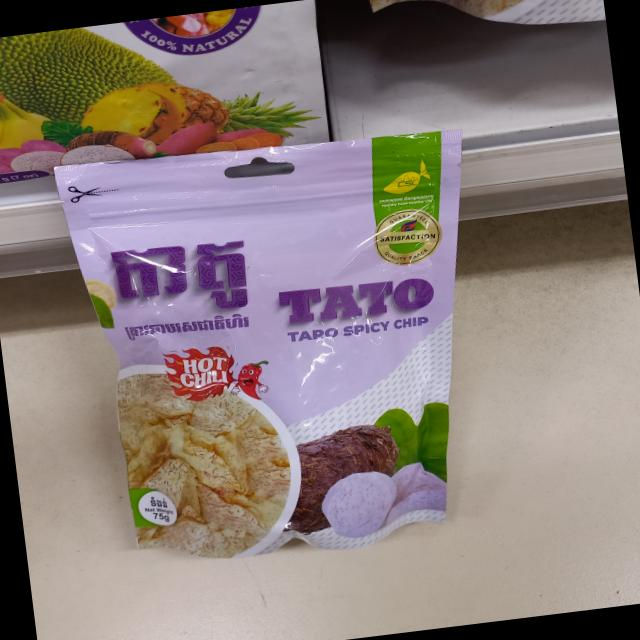831: (150, 511, 166, 520)
Yolov11kh: (105, 237, 249, 309), (122, 310, 254, 343), (148, 495, 169, 507)
